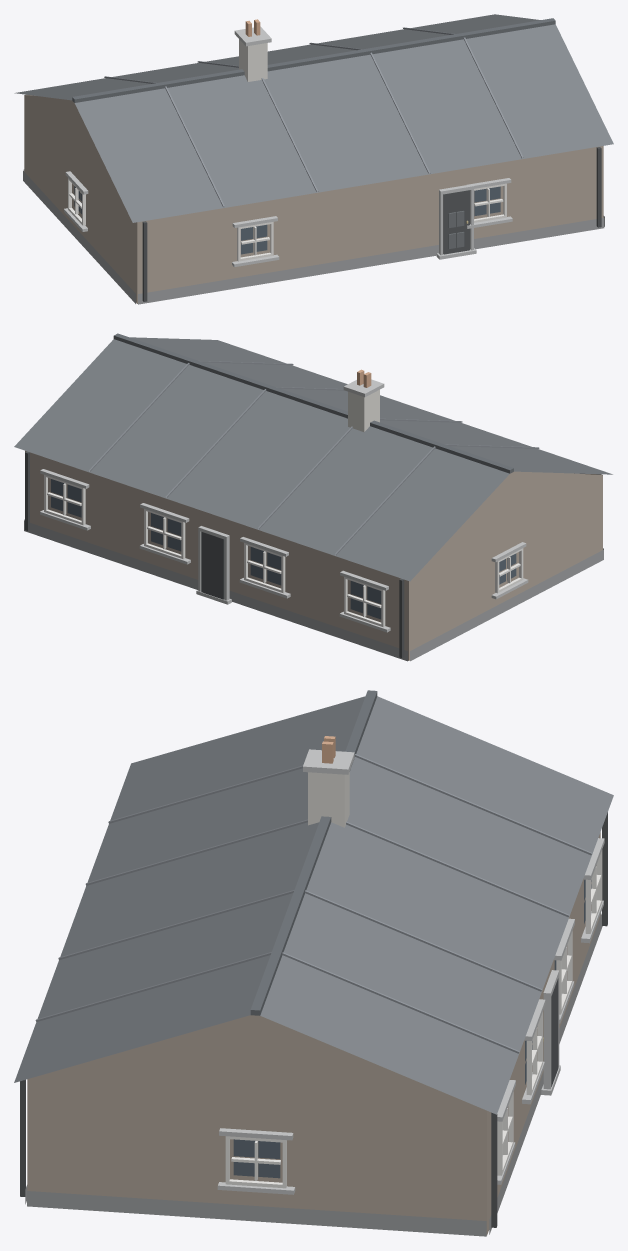
3 renders of one model, top to bottom at view 1: azimuth 30°, elevation 25°; view 2: azimuth 150°, elevation 25°; view 3: azimuth 270°, elevation 25°, orthographic. The views are drawn at different scales.
Visible parts, largest first — view 1: slate, harl_brown, plinth, slate_dk, stone_band, slate_lt, frame, door_dark, chim_render, pipe, door_dark_p; view 2: slate, harl_brown, plinth, stone_band, frame, slate_dk, slate_lt, door_dark, chim_render, pipe; view 3: slate, harl_brown, plinth, slate_lt, stone_band, frame, slate_dk, pipe, chim_render, door_dark.
Boxes of the visible parts, box(x1,y1,x2,y2) form: slate: box(14, 14, 613, 222); harl_brown: box(24, 94, 603, 303); plinth: box(23, 169, 604, 304); slate_dk: box(72, 18, 555, 102); stone_band: box(64, 26, 512, 267); slate_lt: box(104, 27, 523, 207); frame: box(68, 178, 506, 261); door_dark: box(443, 190, 469, 254); chim_render: box(239, 39, 267, 81); pipe: box(142, 147, 601, 301); door_dark_p: box(448, 211, 464, 248); slate: box(14, 337, 612, 581); harl_brown: box(25, 451, 602, 660); plinth: box(24, 519, 603, 661); stone_band: box(40, 379, 528, 632); frame: box(44, 475, 523, 626); slate_dk: box(113, 333, 513, 473); slate_lt: box(88, 360, 539, 555); door_dark: box(201, 532, 224, 599); chim_render: box(348, 389, 379, 431); pipe: box(25, 451, 404, 657); slate: box(14, 696, 613, 1114); harl_brown: box(27, 832, 600, 1235); plinth: box(25, 913, 602, 1236); slate_lt: box(35, 754, 591, 1053); stone_band: box(217, 749, 604, 1194); frame: box(225, 850, 602, 1188); slate_dk: box(250, 690, 377, 1015); pipe: box(20, 812, 607, 1227); chim_render: box(308, 772, 349, 827); door_dark: box(551, 978, 558, 1086).
Bounding box in the file's own units: 16.96 × 6.45 × 12.24.
